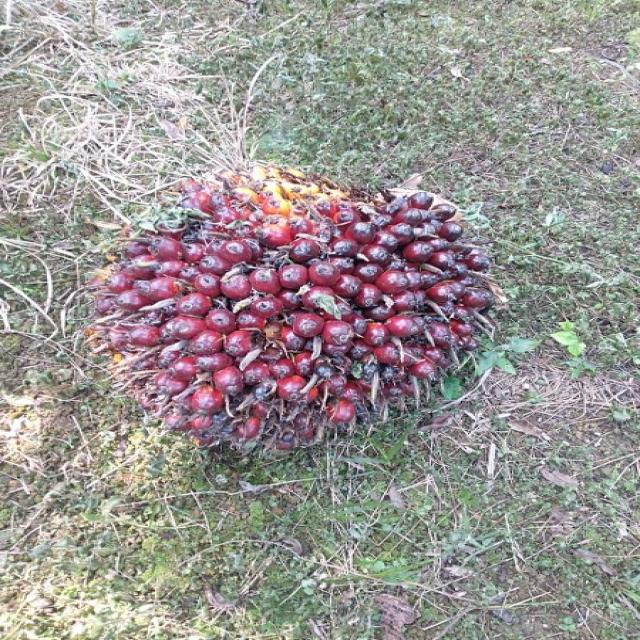fraksi 1: (43, 122, 588, 513)
